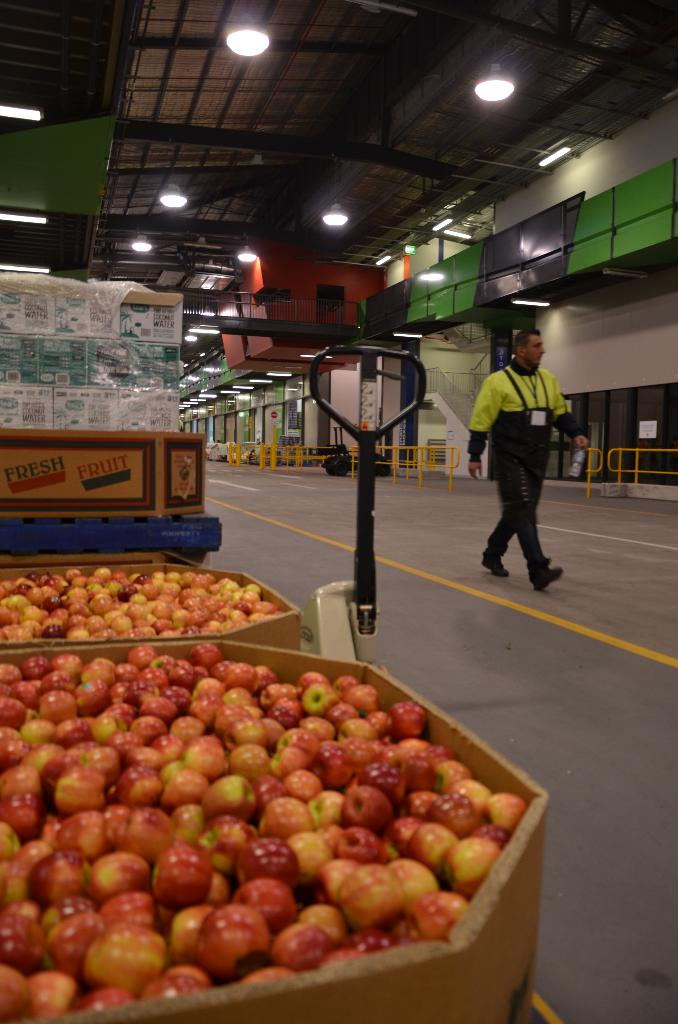Apple: (0, 645, 523, 1018), (0, 565, 282, 640), (82, 920, 162, 995)
